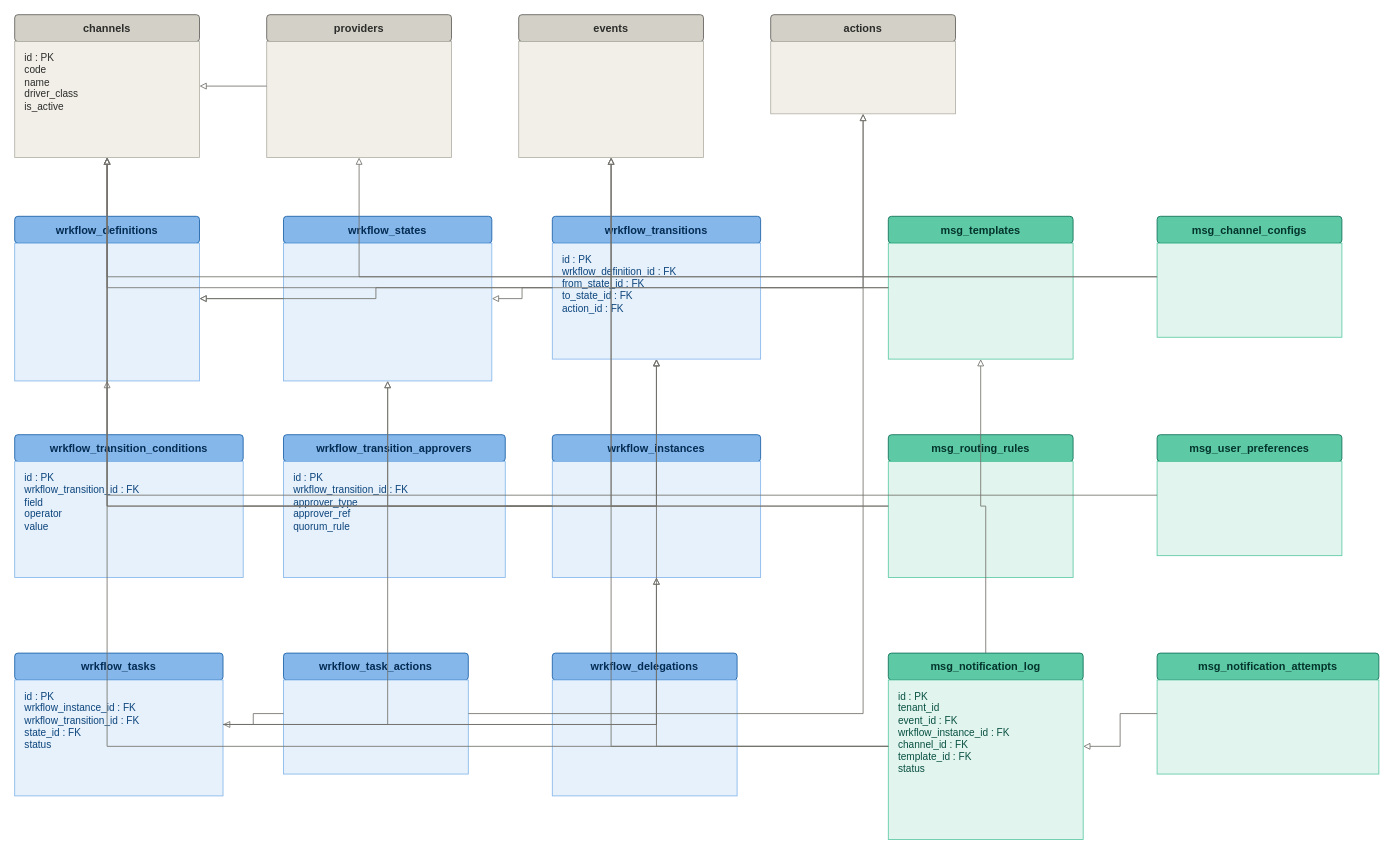
This 1394x854 diagram has some shape labels left out. Here are the shapes that lost their labels. From the top down, the box of each, then its label:
(770, 41, 956, 114): id : PK code name
(266, 41, 452, 158): id : PK channel_id : FK code name is_active
(518, 41, 704, 158): id : PK code name module is_active
(887, 242, 1073, 359): id : PK tenant_id event_id : FK channel_id : FK locale
(1156, 242, 1342, 337): id : PK tenant_id channel_id : FK provider_id : FK
(14, 242, 200, 381): id : PK tenant_id code name version is_active
(283, 242, 492, 381): id : PK wrkflow_definition_id : FK code is_initial is_final sla_hours
(551, 461, 761, 578): id : PK tenant_id wrkflow_definition_id : FK current_state_id : FK status
(887, 461, 1073, 578): id : PK tenant_id event_id : FK channel_id : FK recipient_type
(1156, 461, 1342, 556): id : PK tenant_id user_id channel_id : FK
(283, 679, 468, 774): id : PK wrkflow_task_id : FK actor_id action_id : FK
(551, 679, 737, 796): id : PK tenant_id delegator_id delegate_id is_active
(1156, 679, 1379, 774): id : PK msg_notification_log_id : FK attempt_no status
